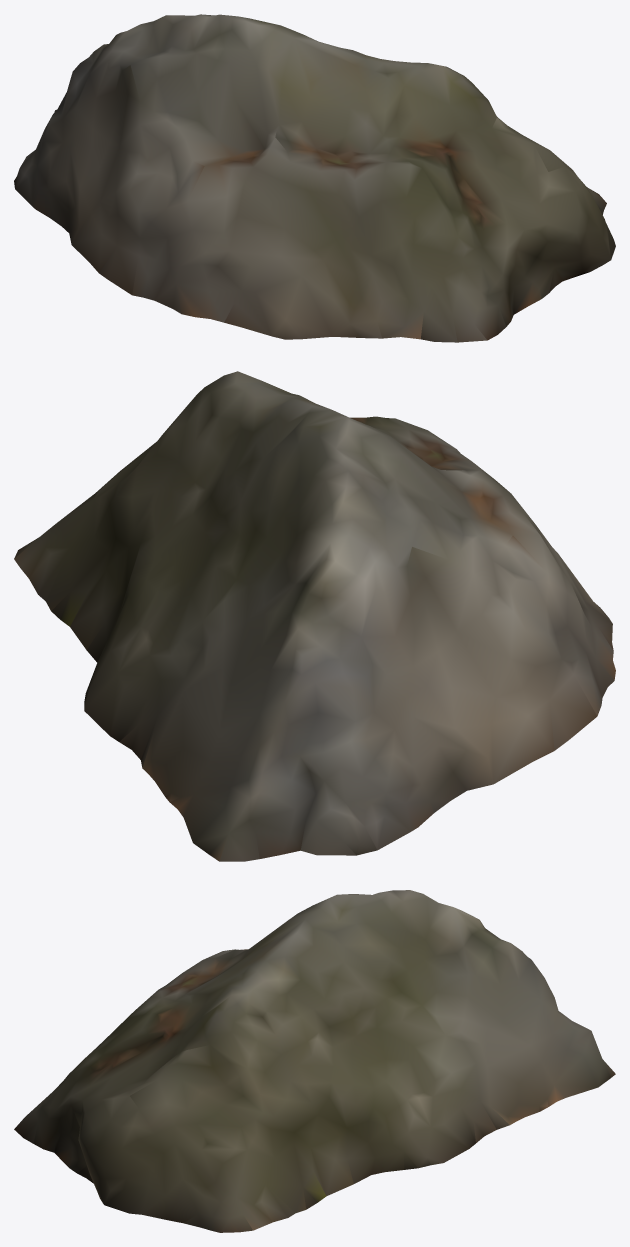
File: SM_Rock_05.fbx
The picture shows the model from 3 angles, top to bottom: view 1: azimuth 30°, elevation 25°; view 2: azimuth 150°, elevation 25°; view 3: azimuth 270°, elevation 25°; orthographic projection. The views are drawn at different scales.
Visible parts, largest first — view 1: Rock_05_LOW.001; view 2: Rock_05_LOW.001; view 3: Rock_05_LOW.001.
Boxes of the visible parts, <box> form: Rock_05_LOW.001: <box>14,14,615,342</box>; Rock_05_LOW.001: <box>14,371,615,861</box>; Rock_05_LOW.001: <box>14,890,615,1232</box>.
Bounding box in the file's own units: 316 × 145 × 382.
